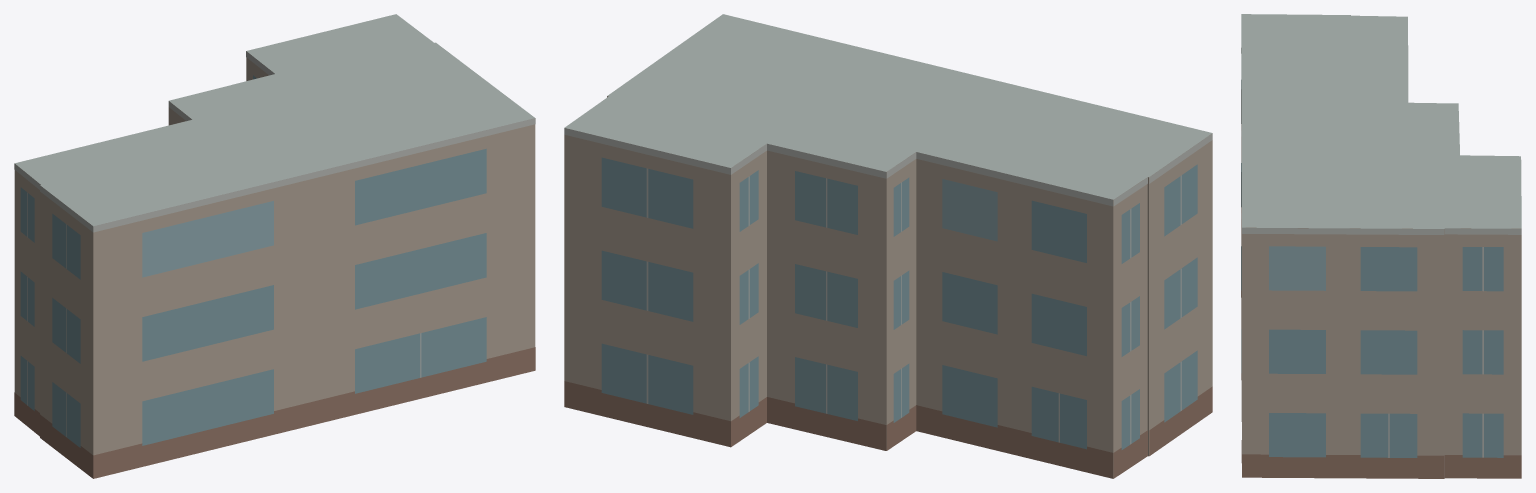
Rendered from survey-upis-32832734.glb.
The picture shows the model from 3 angles, left to right: view 1: azimuth 30°, elevation 25°; view 2: azimuth 150°, elevation 25°; view 3: azimuth 270°, elevation 25°; orthographic projection. The views are drawn at different scales.
Parts seen in each view (by area): view 1: survey-upis-32832734.tmp; view 2: survey-upis-32832734.tmp; view 3: survey-upis-32832734.tmp.
Part boxes in pixels (x1,y1,x2,y2): survey-upis-32832734.tmp: [14, 14, 535, 478]; survey-upis-32832734.tmp: [564, 14, 1212, 478]; survey-upis-32832734.tmp: [1241, 14, 1521, 478].
Size of the model in its own units: 18.39 by 9.96 by 10.15.
